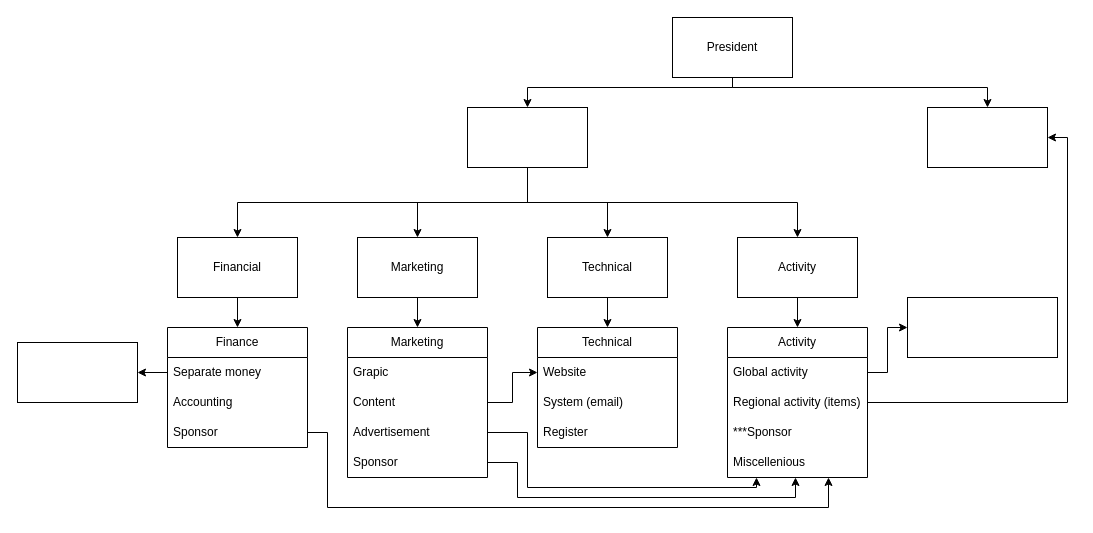
The diagram is 1093 pixels wide and 533 high, and some of its shapes have lost their labels. The shapes that lost their labels are listed below. From the top down, each one's centre as x and y in pixels, then its label:
pixel 527 137: Central management
pixel 987 137: Regional management
pixel 982 327: Annual activity Work career bootscamp
pixel 77 372: Depends on head count
